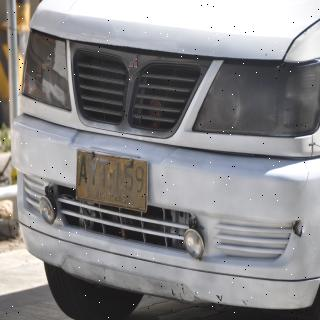license: (77, 151, 149, 213)
